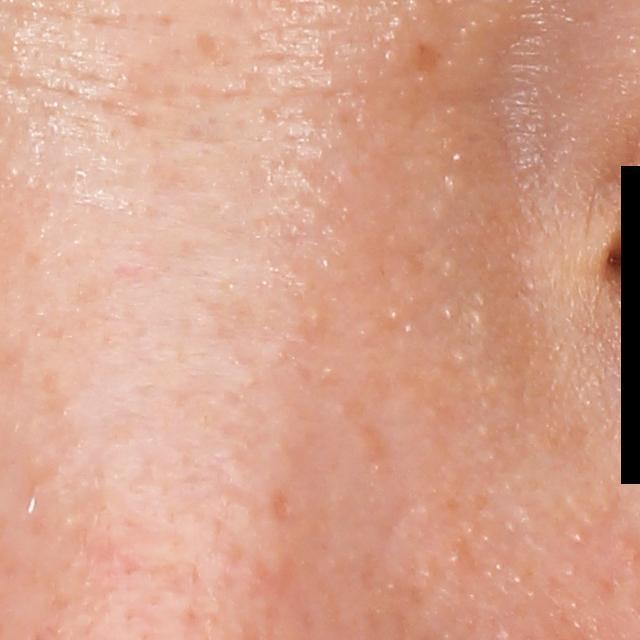comedo: (382, 302, 401, 324)
